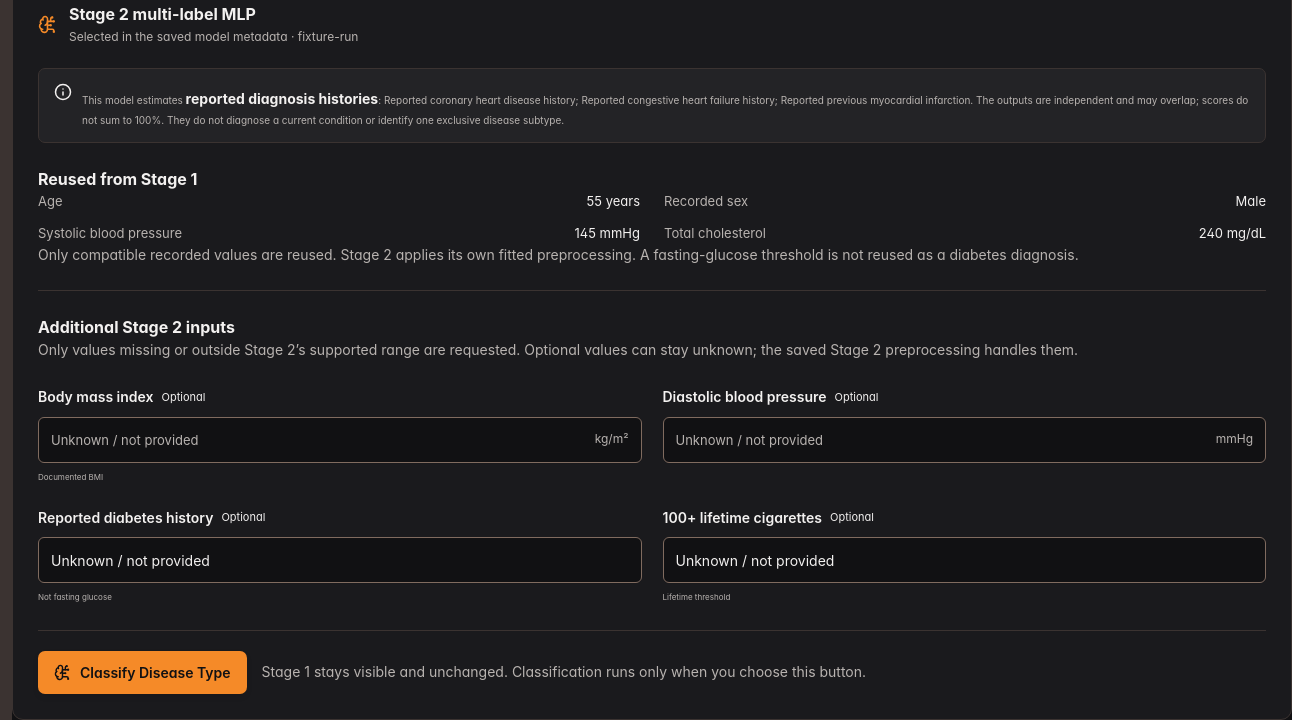
Test: Stage 2 extension › keeps Stage 1 visible while running and after a Stage 2 failure
Later steps or results of the test are not shown.
(page scrolled)
Click the button "Classify Disease Type" at (142, 672), box [38,651,247,694]
(page scrolled)
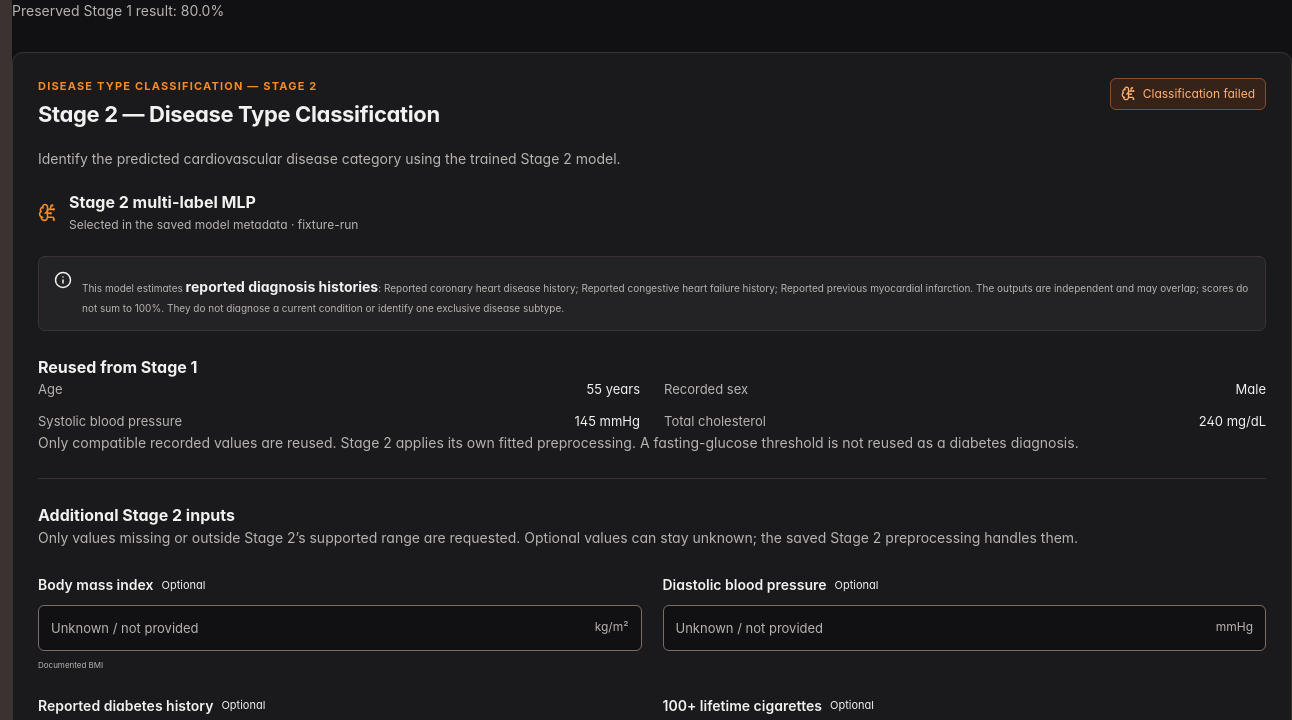
Check: the text "Preserved Stage 1 result: 80.0%" is shown, box [12,2,224,19]
Check: the text "Classification failed" is shown, box [1110,78,1266,110]
